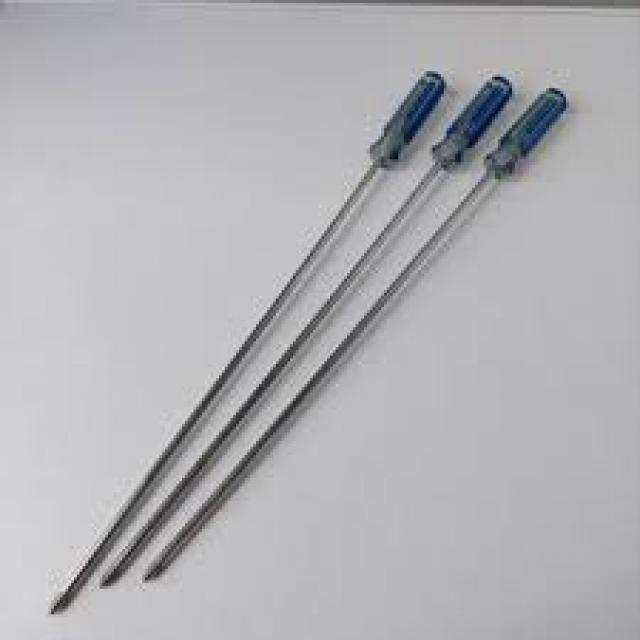screwdriver: (41, 68, 448, 620), (96, 70, 518, 590), (138, 82, 570, 586)
